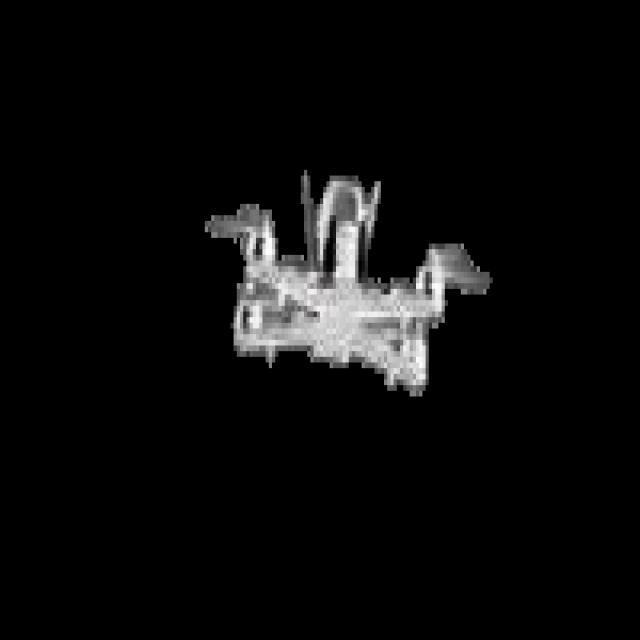drone: (217, 171, 486, 392)
